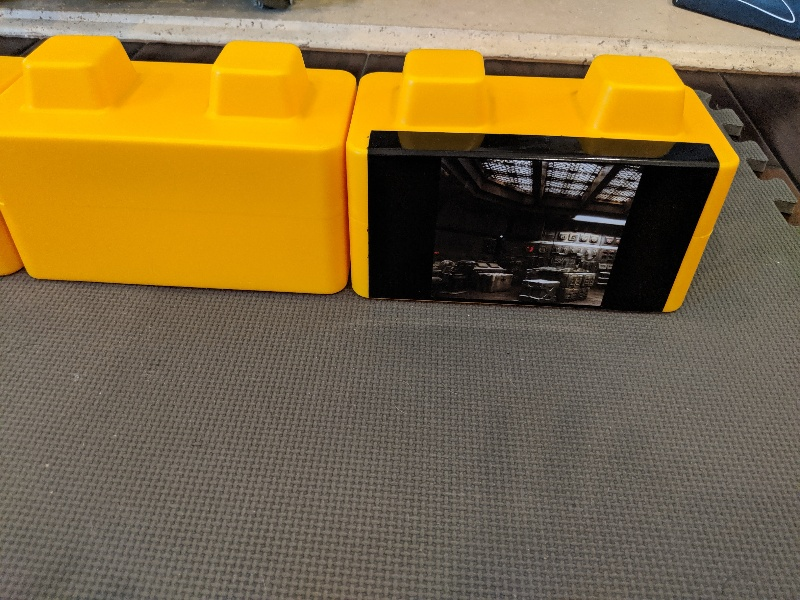Skystone: (359, 119, 724, 320)
